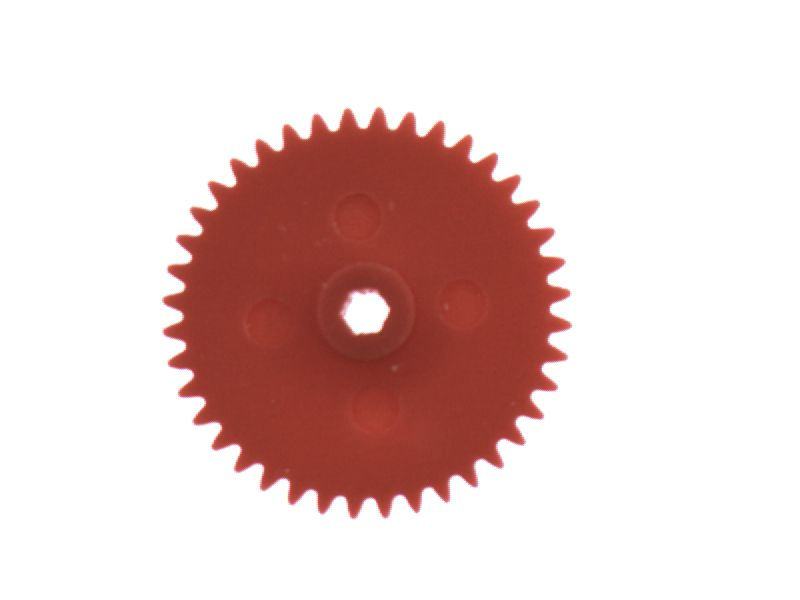good_product: (143, 92, 588, 532)
